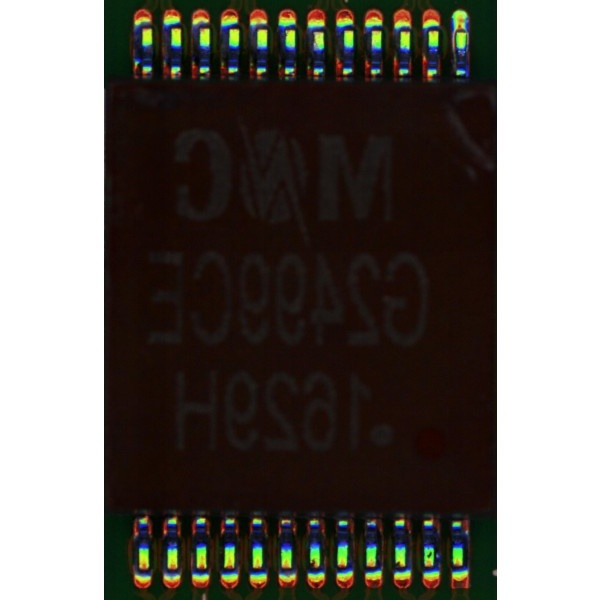Bad_podu: (457, 22, 465, 38)
Bad_qiaojiao: (452, 31, 456, 67)
